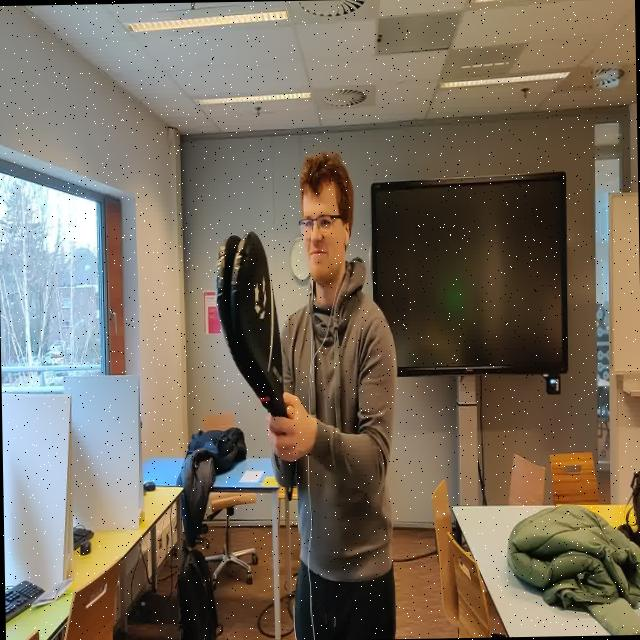paddle: (216, 230, 285, 416)
